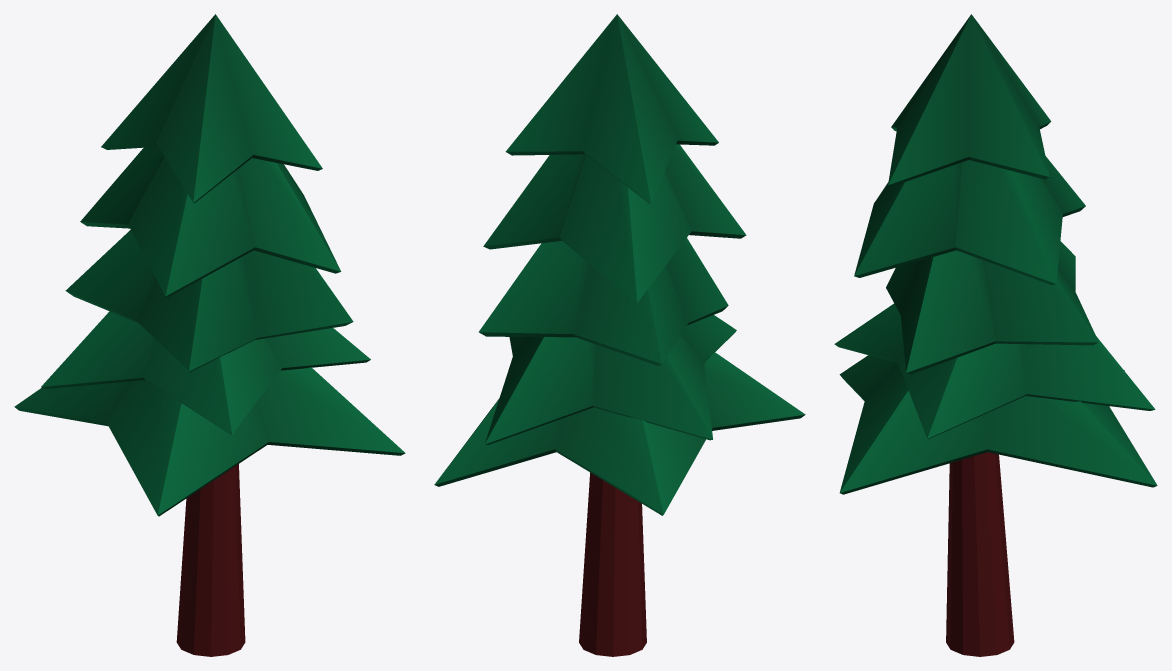
Rendered from tree_2_2.fbx.
The picture shows the model from 3 angles, left to right: view 1: azimuth 30°, elevation 25°; view 2: azimuth 150°, elevation 25°; view 3: azimuth 270°, elevation 25°; orthographic projection.
Parts seen in each view (by area): view 1: tree_2_2; view 2: tree_2_2; view 3: tree_2_2.
Part boxes in pixels (box(x1,y1,x2,y2)): tree_2_2: box(14, 14, 405, 656); tree_2_2: box(434, 14, 805, 656); tree_2_2: box(834, 14, 1157, 656).
Bounding box in the file's own units: 2.64 × 2.76 × 5.92.
